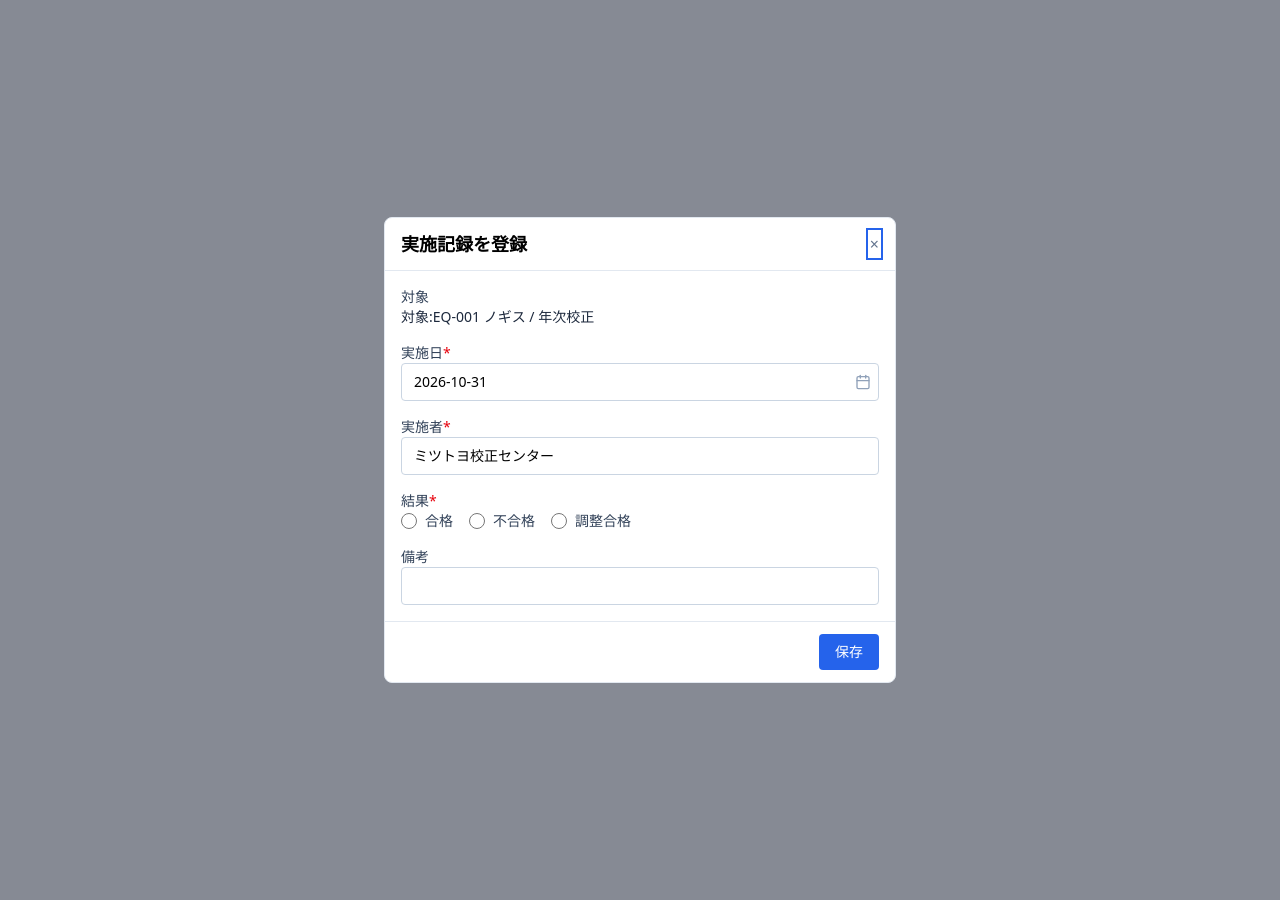
Test: ServiceRecordModal › 結果未選択で登録するとエラーが表示されストアが変化しない
Click the button "保存". click: [849, 652]
box: [819,634,879,670]
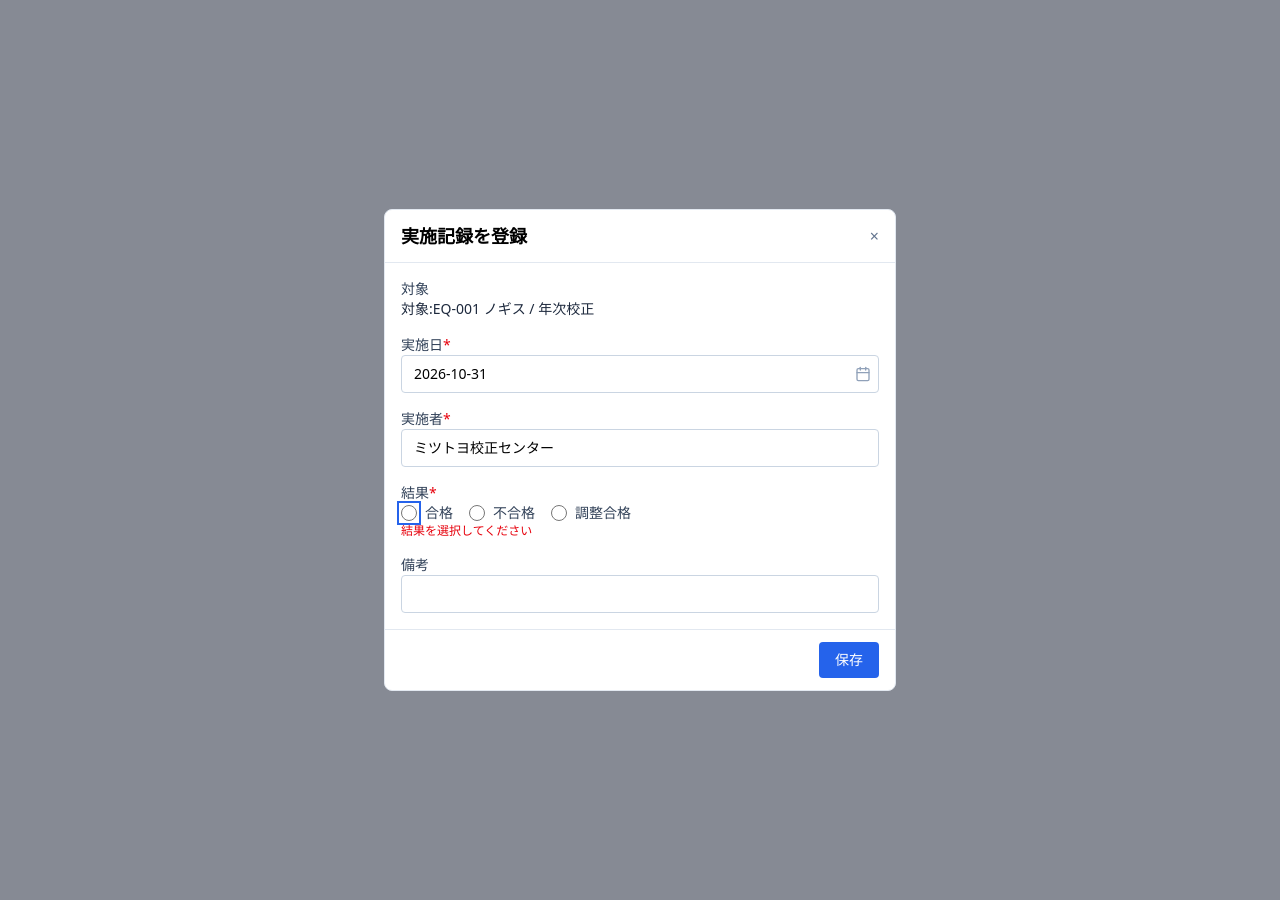
Expected: the text "結果を選択してください" is shown, [401,522,532,539]
